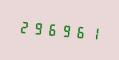nine: (31, 17, 44, 38), (60, 20, 73, 41)
one: (88, 22, 101, 43)
six: (46, 18, 59, 39), (74, 21, 87, 42)
two: (17, 16, 30, 37)
